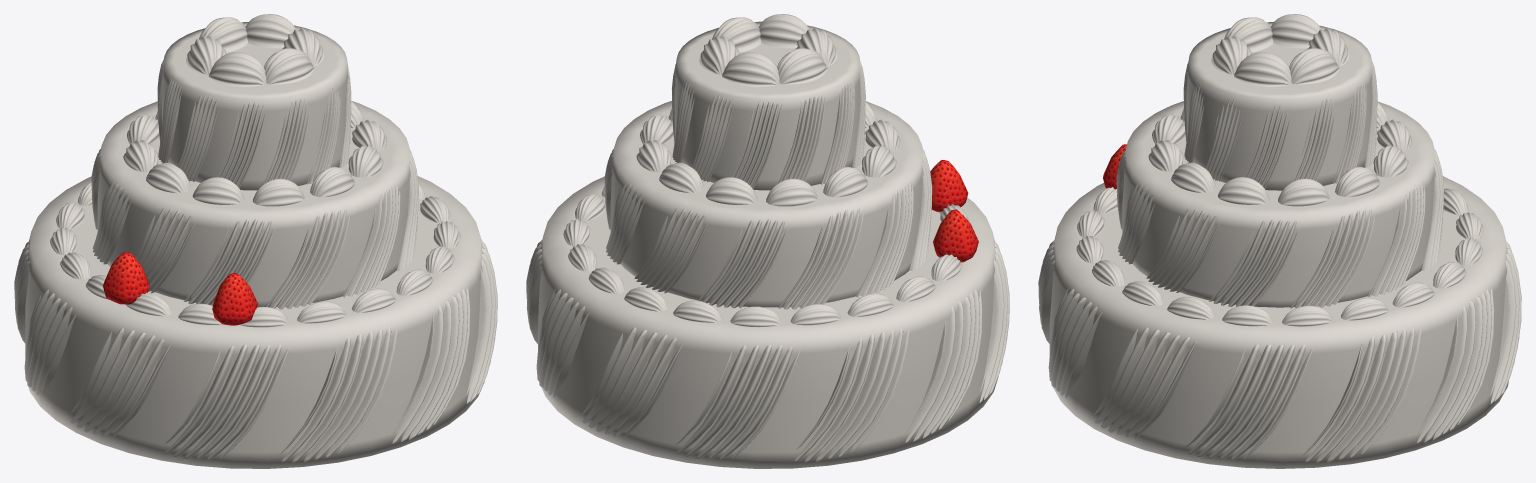
3 views of the same model, side by side, from view 1: azimuth 30°, elevation 25°; view 2: azimuth 150°, elevation 25°; view 3: azimuth 270°, elevation 25° (orthographic).
Visible parts, largest first — view 1: dekoIII_2_pPlane89; view 2: dekoIII_2_pPlane89; view 3: dekoIII_2_pPlane89.
Boxes of the visible parts, x1,y1,x2,y2 form: dekoIII_2_pPlane89: [14, 14, 497, 468]; dekoIII_2_pPlane89: [526, 14, 1009, 468]; dekoIII_2_pPlane89: [1038, 14, 1521, 468].
Size of the model in its own units: 32.56 by 25.1 by 32.56.
